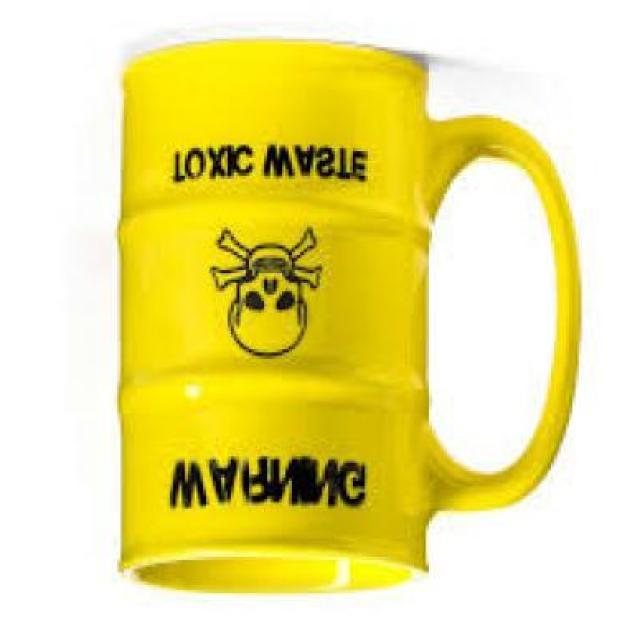cup: (103, 30, 587, 605)
